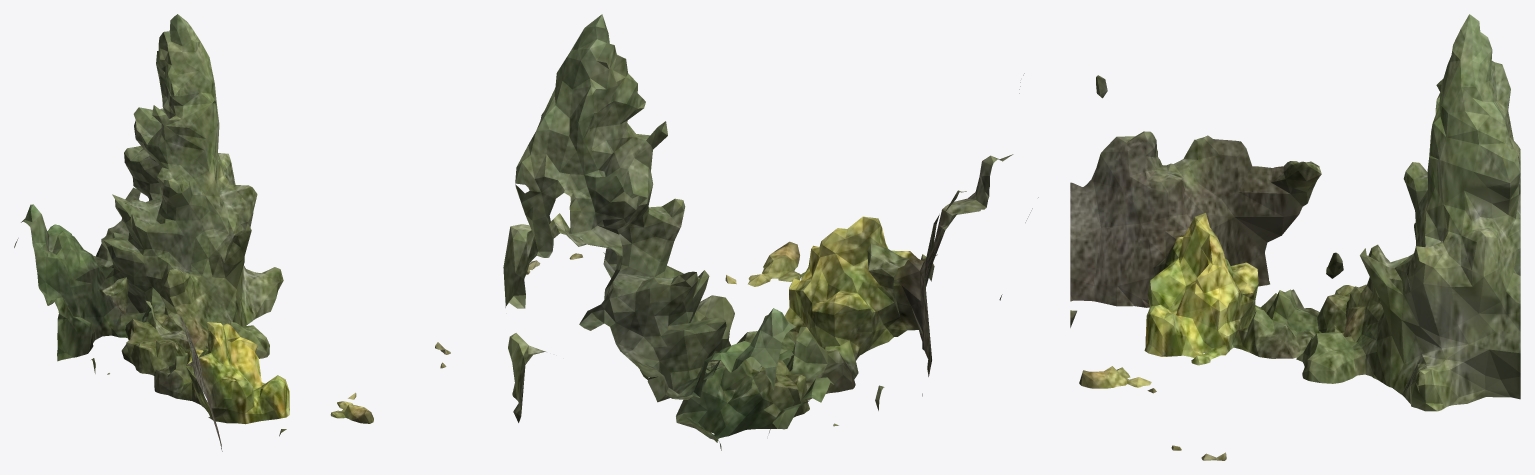
3 views of the same model, side by side, from view 1: azimuth 30°, elevation 25°; view 2: azimuth 150°, elevation 25°; view 3: azimuth 270°, elevation 25° (orthographic). The views are drawn at different scales.
Size of the model in its own units: 10.95 by 10.2 by 11.8.
3 materials, 3 textured.
